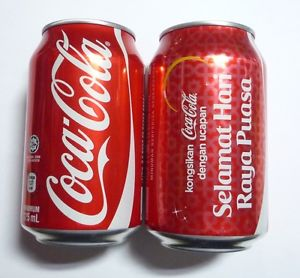coke: (148, 28, 265, 256), (28, 24, 142, 243)
